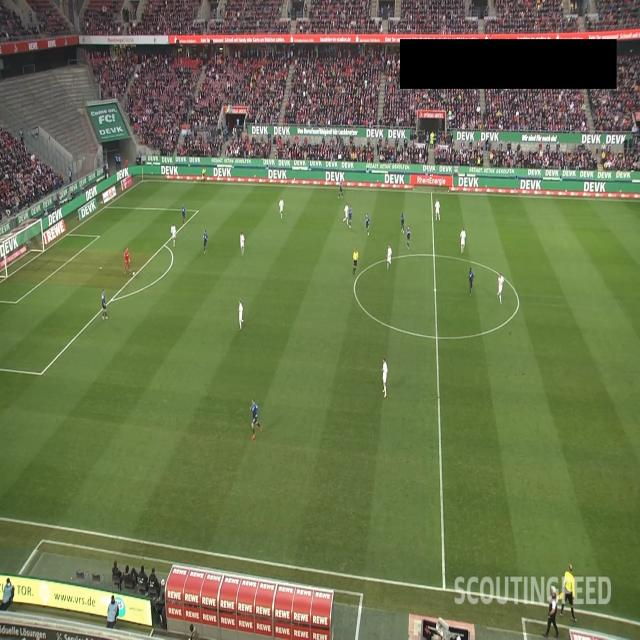ball: (132, 270, 135, 276)
